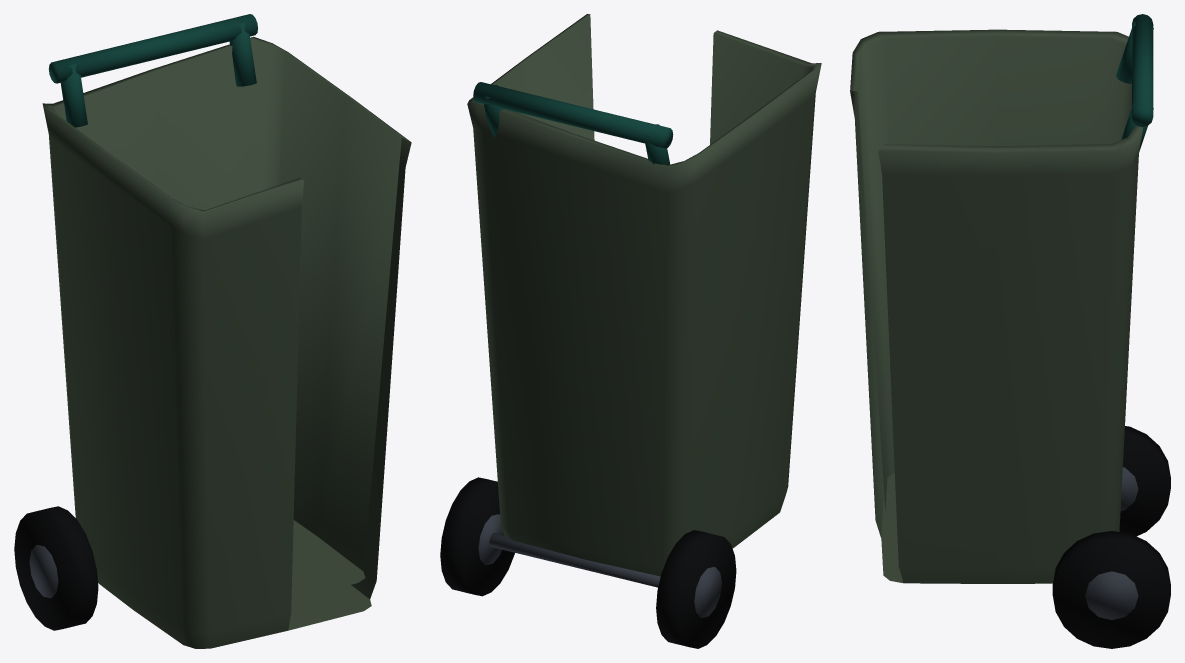
The model's file is bin-broken.glb.
3 renders of one model, left to right at view 1: azimuth 30°, elevation 25°; view 2: azimuth 150°, elevation 25°; view 3: azimuth 270°, elevation 25°, orthographic. The views are drawn at different scales.
Parts seen in each view (by area): view 1: bin-broken; view 2: bin-broken; view 3: bin-broken.
Part boxes in pixels (left/top/right/bottom): bin-broken: left=14, top=14, right=411, bottom=648; bin-broken: left=440, top=14, right=821, bottom=648; bin-broken: left=850, top=14, right=1170, bottom=648.
Bounding box in the file's own units: 0.478 × 0.988 × 0.543.
Materials: 1 (1 with a texture image).
